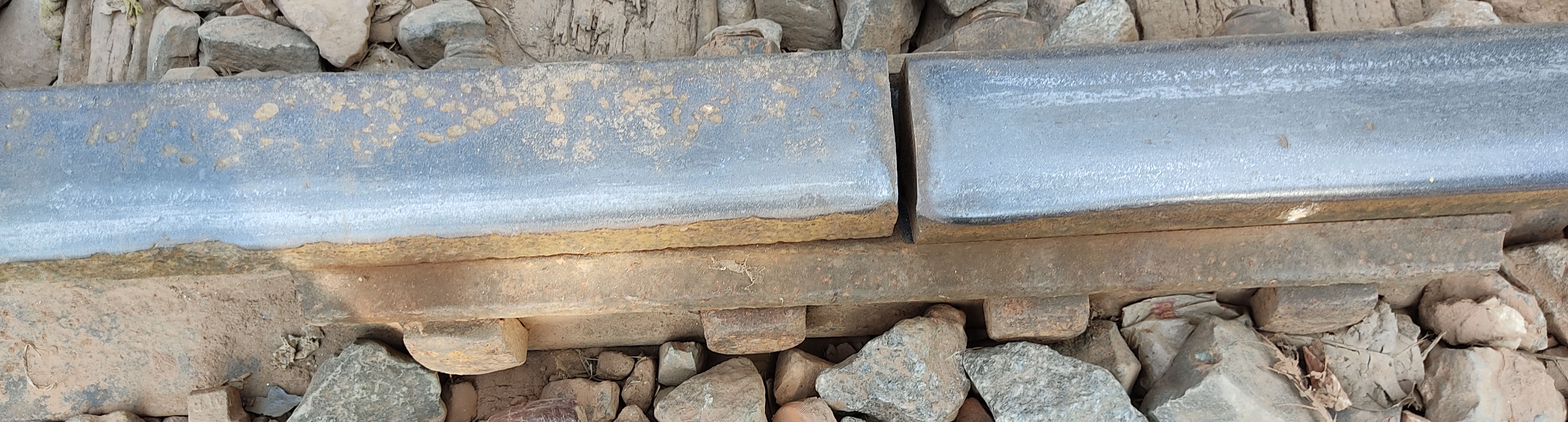duan lie: (860, 30, 943, 280)
